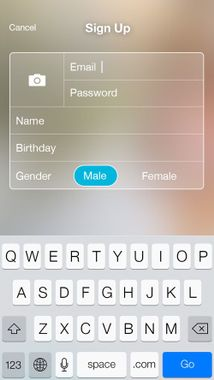button: (75, 350, 128, 378), (162, 351, 212, 380), (72, 163, 119, 190), (129, 350, 161, 379)
field: (8, 132, 205, 164), (8, 106, 205, 135), (62, 51, 205, 83), (61, 79, 206, 109)
